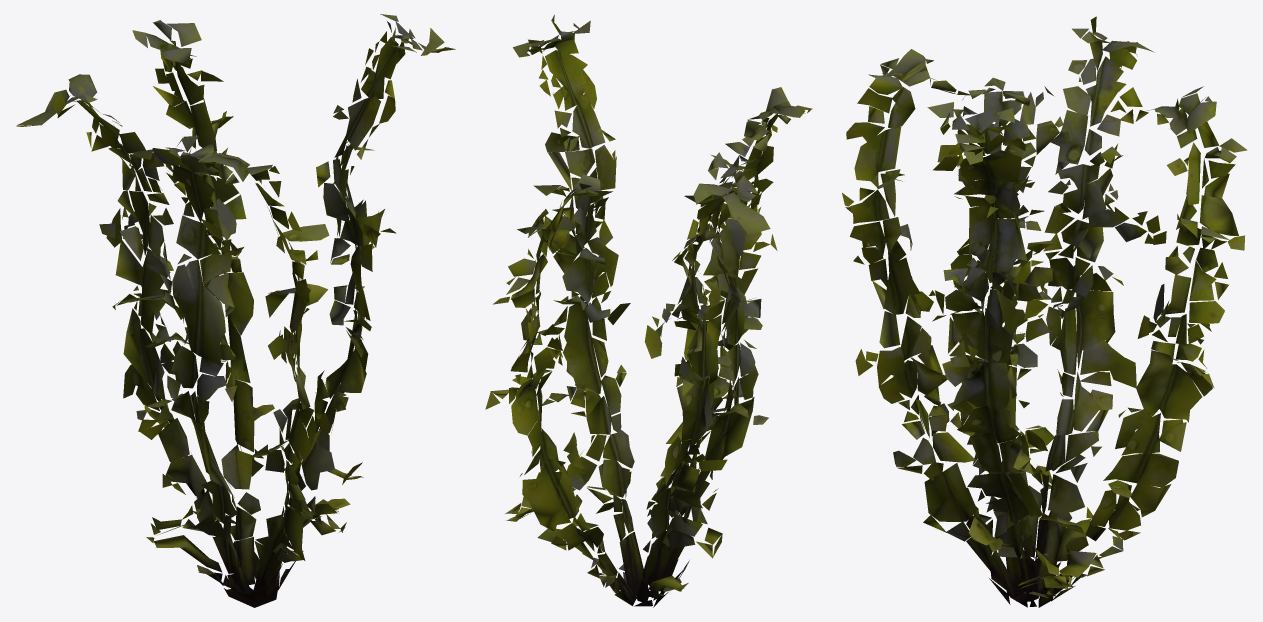
Rendered from seaweed.glb.
The picture shows the model from 3 angles, left to right: view 1: azimuth 30°, elevation 25°; view 2: azimuth 150°, elevation 25°; view 3: azimuth 270°, elevation 25°; orthographic projection. The views are drawn at different scales.
Parts seen in each view (by area): view 1: tripo_node_f1685d0d-a2e8-4d08-b2ca-57f38906e793; view 2: tripo_node_f1685d0d-a2e8-4d08-b2ca-57f38906e793; view 3: tripo_node_f1685d0d-a2e8-4d08-b2ca-57f38906e793.
Boxes of the visible parts, bbox=[...] form: tripo_node_f1685d0d-a2e8-4d08-b2ca-57f38906e793: bbox=[16, 14, 455, 607]; tripo_node_f1685d0d-a2e8-4d08-b2ca-57f38906e793: bbox=[485, 14, 812, 607]; tripo_node_f1685d0d-a2e8-4d08-b2ca-57f38906e793: bbox=[842, 16, 1247, 607].
Size of the model in its own units: 0.9918 by 1.49 by 0.9864.
Materials: 1 (1 with a texture image).
